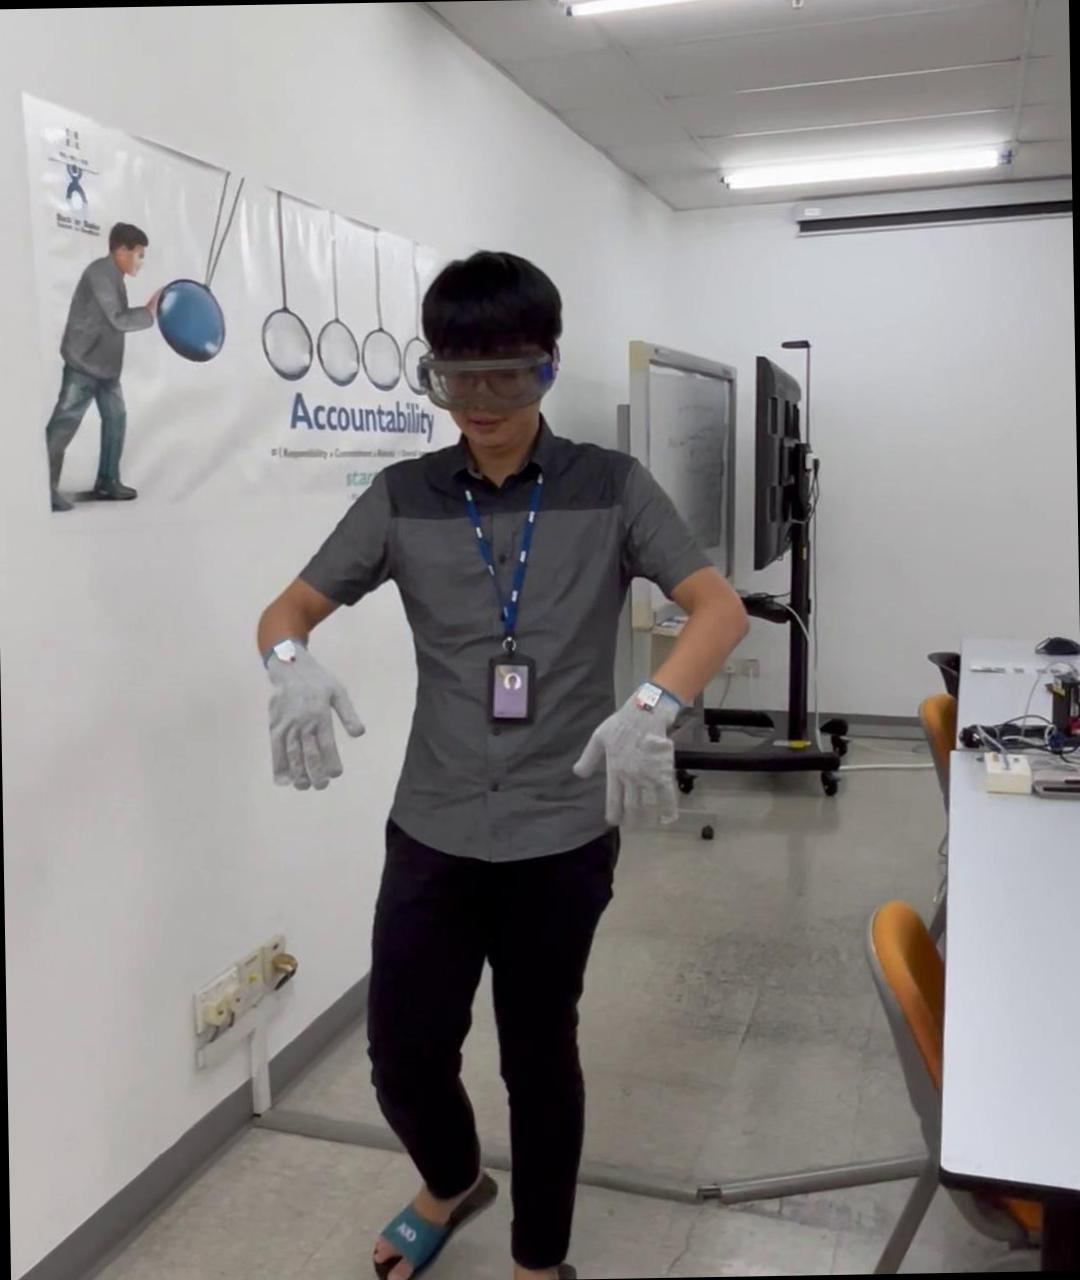Gloves: (258, 627, 376, 797), (570, 664, 684, 828)
No-gloves: (913, 647, 960, 768)
